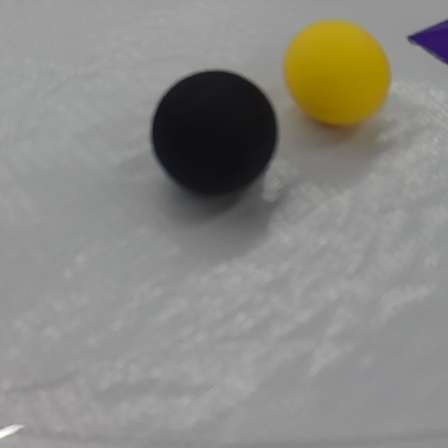black: (149, 63, 281, 201)
yellow: (281, 20, 400, 132)
